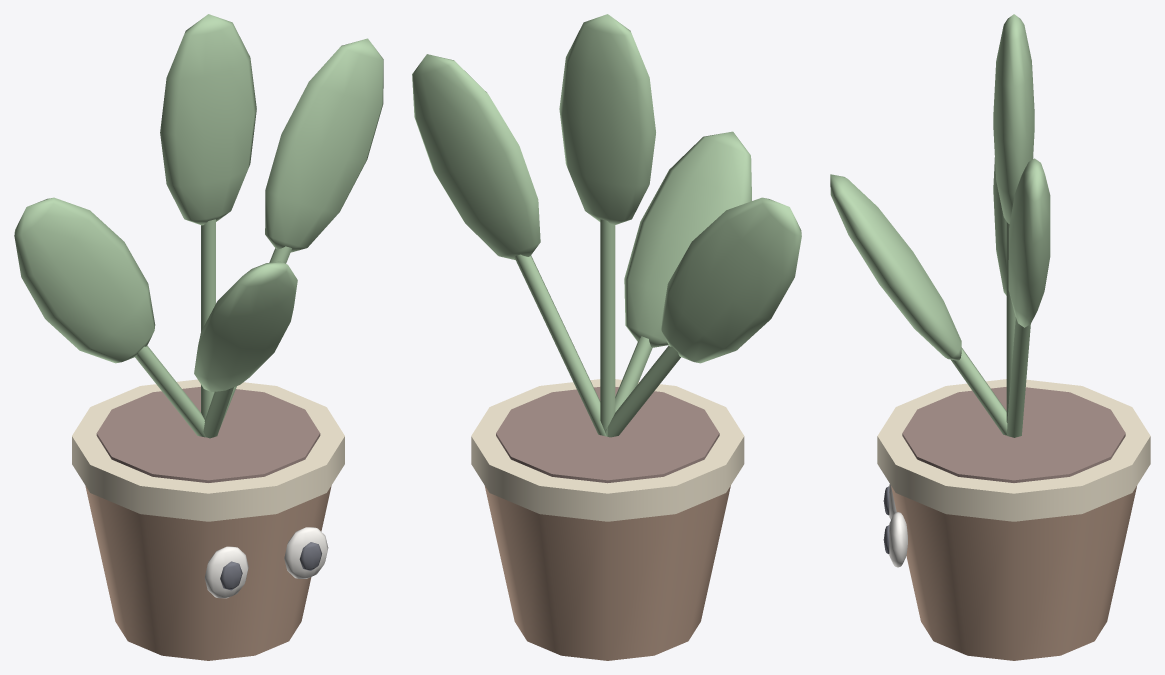
File: 22_planta_ojos.glb
3 views of the same model, side by side, from view 1: azimuth 30°, elevation 25°; view 2: azimuth 150°, elevation 25°; view 3: azimuth 270°, elevation 25° (orthographic).
Parts seen in each view (by area): view 1: leaves, body (×4), eyes; view 2: leaves, body (×3); view 3: body (×4), leaves.
Boxes of the visible parts, x1,y1,x2,y2 form: leaves: [14, 14, 383, 438]; body (×4): [72, 379, 344, 660]; eyes: [220, 542, 321, 590]; leaves: [412, 14, 801, 437]; body (×3): [471, 379, 744, 660]; body (×4): [877, 379, 1150, 660]; leaves: [830, 14, 1050, 437].
Bounding box in the file's own units: 0.7059 × 1.08 × 0.5159.
